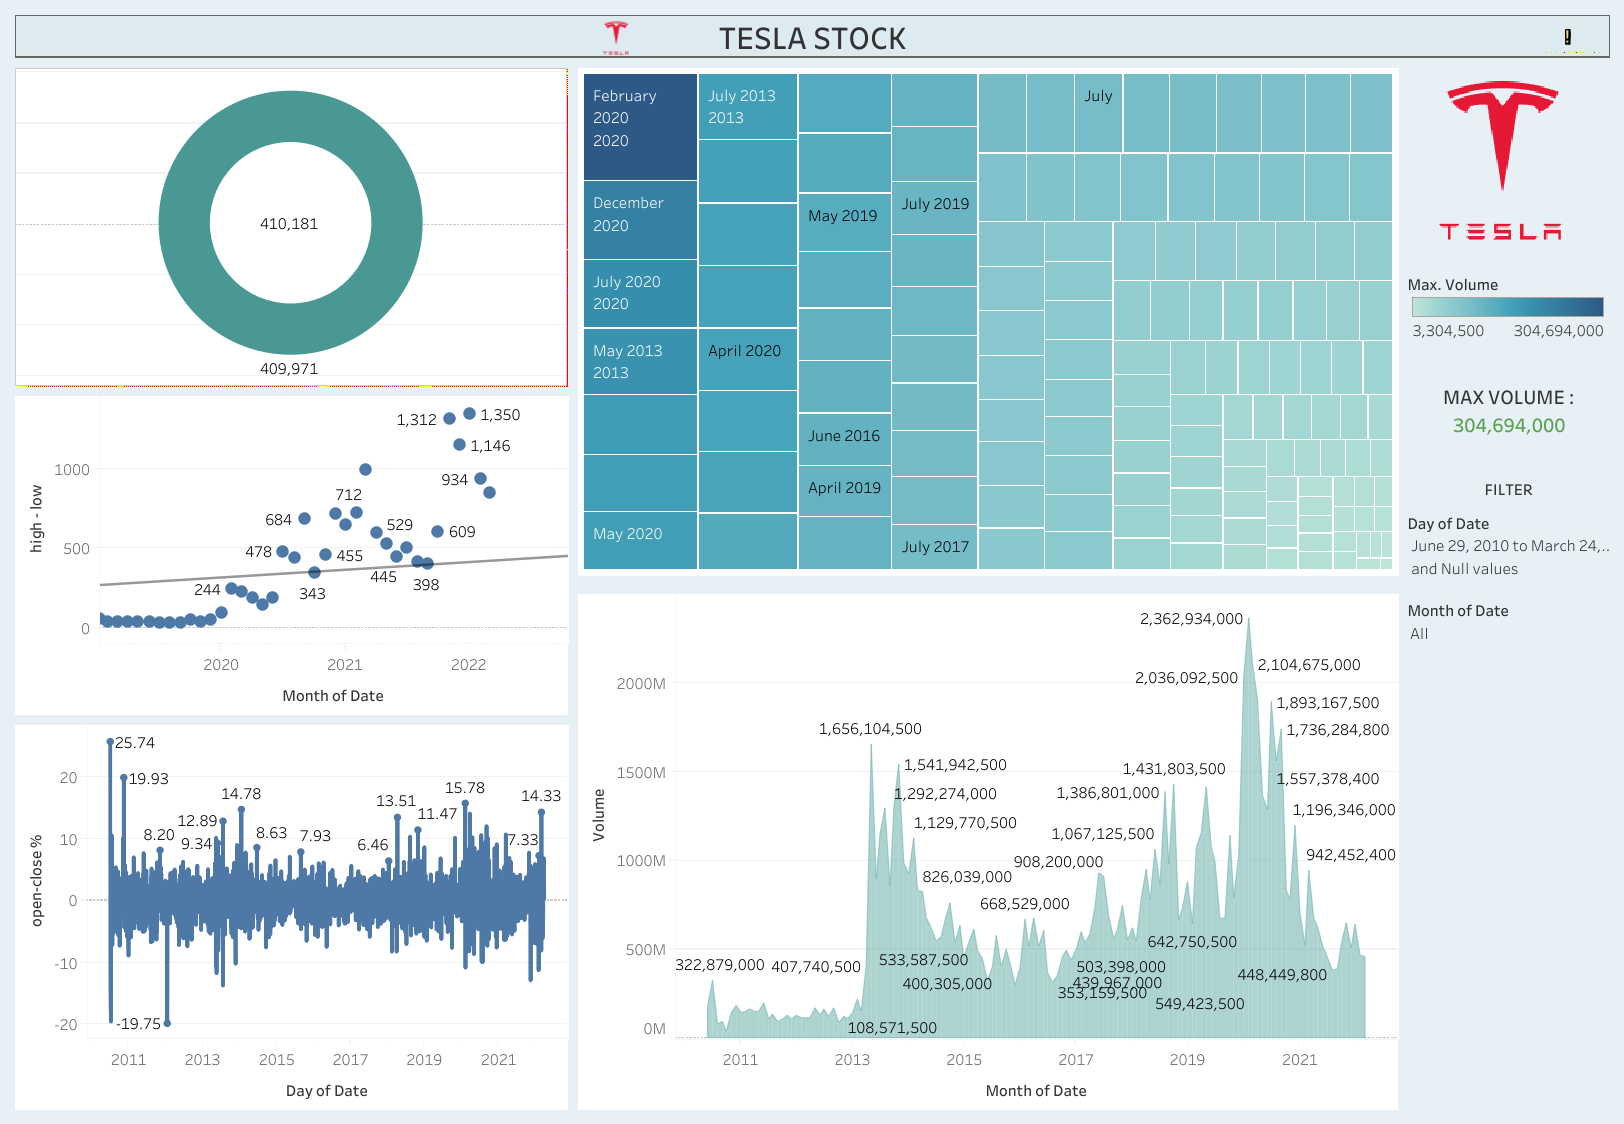

What the dashboard file says about the page in this screenshot:
{"tool":"tableau","page":{"name":"TESLA STOCK","canvas":[1300,900],"ordinal":0},"visuals":[{"type":"title","box":[8,8,1284,49]},{"type":"image","param":"Image/teslalogo.png","box":[477,15,35,32]},{"type":"worksheet","title":"Info icon","mark":"Shape","box":[1227,16,54,25]},{"type":"worksheet","title":"open - close pie","mark":"Pie","rows":["Open","Close"],"box":[8,57,450,260.9]},{"type":"worksheet","title":"seasonal heatmap","mark":"Automatic","box":[458,57,664,417.5]},{"type":"image","param":"Image/teslalogo.png","box":[1122,57,170,160]},{"type":"legend","title":"seasonal heatmap","param":"[federated.0hnwhrf02yq6vo1g3q7fu0vrbth2].[max:Volume:qk]","box":[1122,217,170,73]},{"type":"worksheet","title":"Max volume","mark":"Text","box":[1122,290,170,100]},{"type":"worksheet","title":"high - low diff","mark":"Circle","rows":["Calculation_2250110983123492865"],"cols":["Date"],"box":[8,317.9,450,260.9]},{"type":"text","box":[1122,390,170,29]},{"type":"filter","title":"open - close / day %","param":"[federated.0hnwhrf02yq6vo1g3q7fu0vrbth2].[tdy:Date:qk]","box":[1122,419,170,73]},{"type":"worksheet","title":"Volume/month","mark":"Area","rows":["Volume"],"cols":["Date"],"box":[458,474.5,664,417.5]},{"type":"filter","title":"seasonal heatmap","param":"[federated.0hnwhrf02yq6vo1g3q7fu0vrbth2].[tmn:Date:ok]","box":[1122,492,170,56]},{"type":"worksheet","title":"open - close / day %","mark":"Automatic","rows":["Calculation_2250110983117250560"],"cols":["Date"],"box":[8,578.9,450,313.1]}]}

Visuals, with their boxes in screenshot pixels (x1, y1, x2, y2), scaled from the page's 1300x900 canvas onto the 1624x1124 screenshot:
title: BBox(10, 10, 1614, 71)
image: BBox(596, 19, 640, 59)
"Info icon" worksheet (Shape marks): BBox(1533, 20, 1600, 51)
"open - close pie" worksheet (Pie marks): BBox(10, 71, 572, 397)
"seasonal heatmap" worksheet: BBox(572, 71, 1402, 593)
image: BBox(1402, 71, 1614, 271)
"seasonal heatmap" legend: BBox(1402, 271, 1614, 362)
"Max volume" worksheet (Text marks): BBox(1402, 362, 1614, 487)
"high - low diff" worksheet (Circle marks): BBox(10, 397, 572, 723)
text: BBox(1402, 487, 1614, 523)
"open - close / day %" filter: BBox(1402, 523, 1614, 614)
"Volume/month" worksheet (Area marks): BBox(572, 593, 1402, 1114)
"seasonal heatmap" filter: BBox(1402, 614, 1614, 684)
"open - close / day %" worksheet: BBox(10, 723, 572, 1114)
